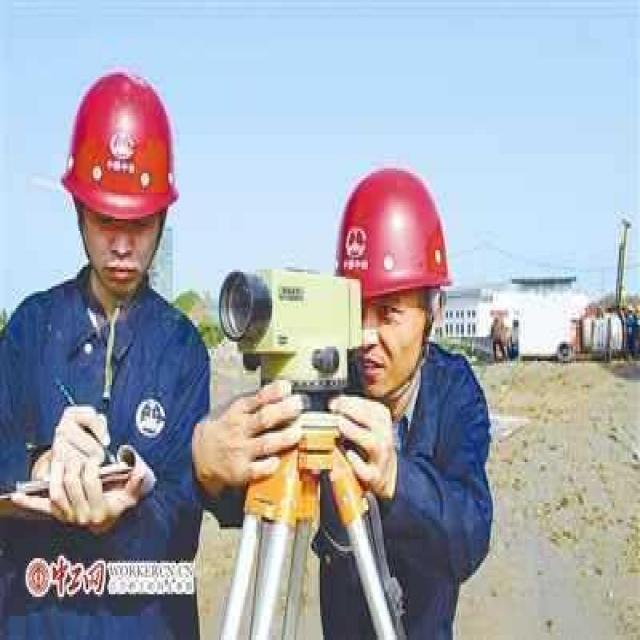hat: (53, 44, 194, 311), (338, 142, 466, 409)
